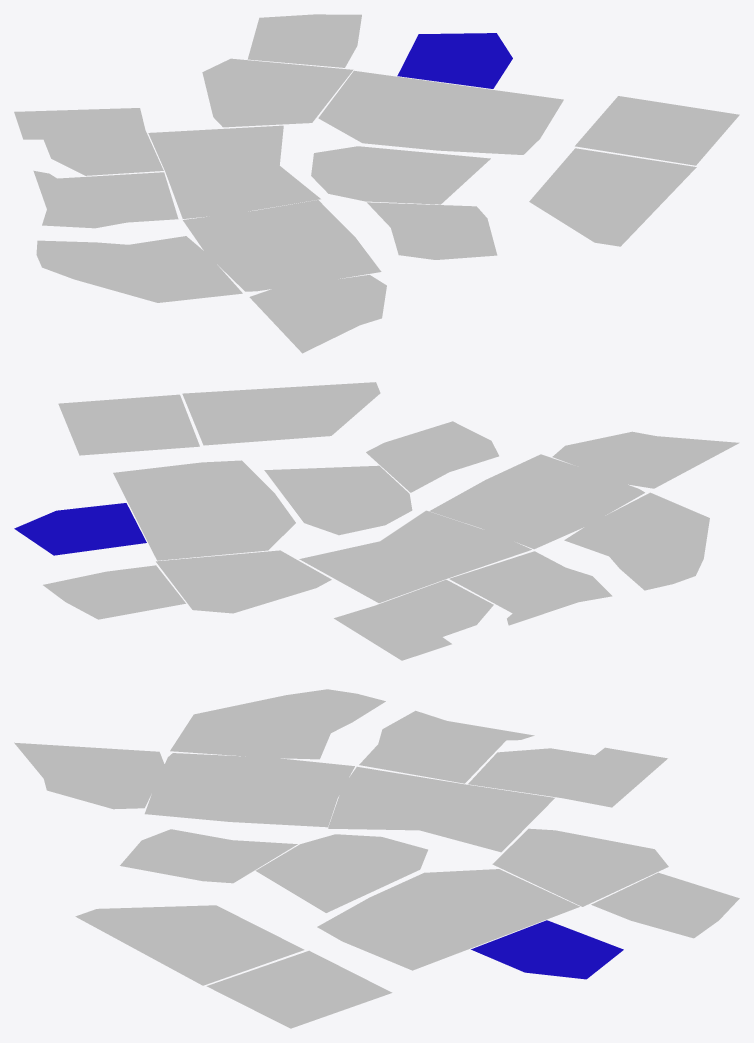
File: city_sectors.fbx
3 renders of one model, top to bottom at view 1: azimuth 30°, elevation 25°; view 2: azimuth 150°, elevation 25°; view 3: azimuth 270°, elevation 25°, orthographic. The views are drawn at different scales.
Visible parts, largest first — view 1: sector.013; view 2: sector.013; view 3: sector.013.
Boxes of the visible parts, x1,y1,x2,y2 form: sector.013: [14, 14, 739, 353]; sector.013: [14, 382, 739, 660]; sector.013: [14, 689, 739, 1028].
Size of the model in its own units: 6166 by 0.000837 by 5572.
